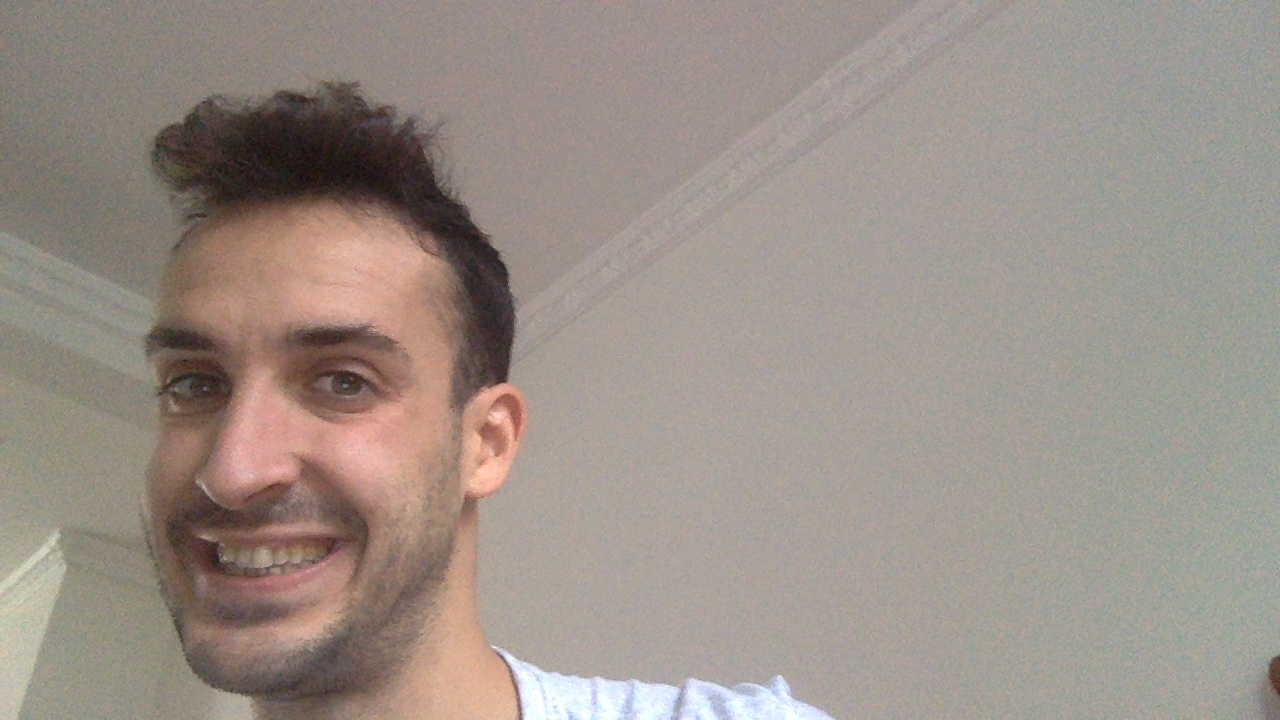smile: (190, 527, 354, 592)
